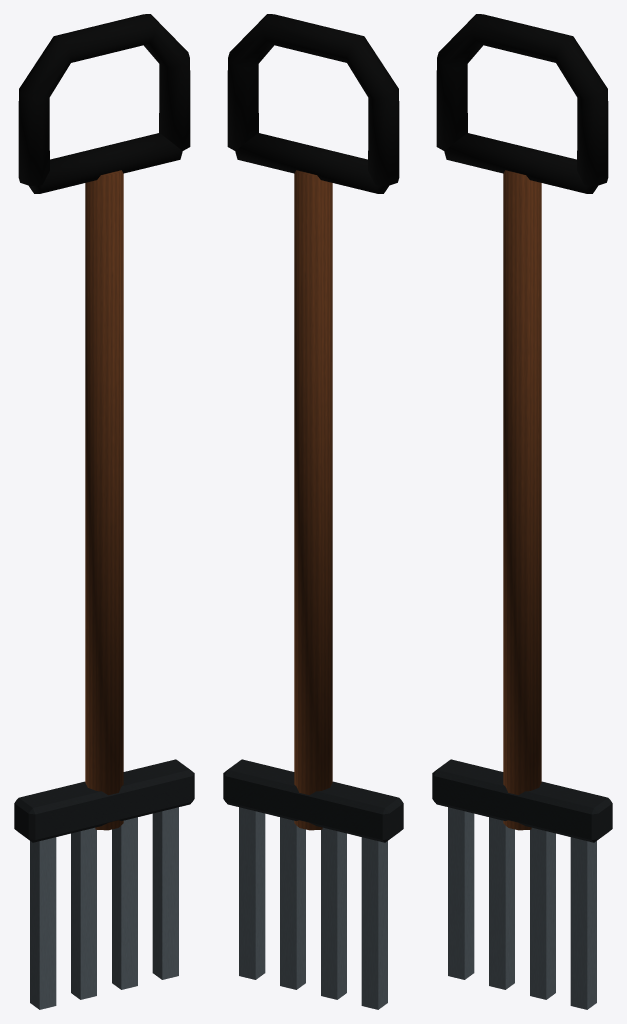
Rendered from DiggingFork.gltf.
3 views of the same model, side by side, from view 1: azimuth 30°, elevation 25°; view 2: azimuth 150°, elevation 25°; view 3: azimuth 330°, elevation 25° (orthographic).
Parts seen in each view (by area): view 1: DiggingFork__Body; view 2: DiggingFork__Body; view 3: DiggingFork__Body.
Boxes of the visible parts, box(x1,y1,x2,y2) form: DiggingFork__Body: box(14, 14, 194, 1009); DiggingFork__Body: box(223, 14, 403, 1009); DiggingFork__Body: box(432, 14, 612, 1009).
Bounding box in the file's own units: 0.1848 × 1.01 × 0.0364.
Materials: 1 (1 with a texture image).
